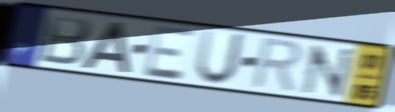A: (79, 21, 132, 74)
B: (37, 12, 94, 68)
E: (142, 23, 198, 83)
N: (300, 43, 356, 100)
R: (247, 36, 306, 96)
U: (192, 27, 249, 88)
